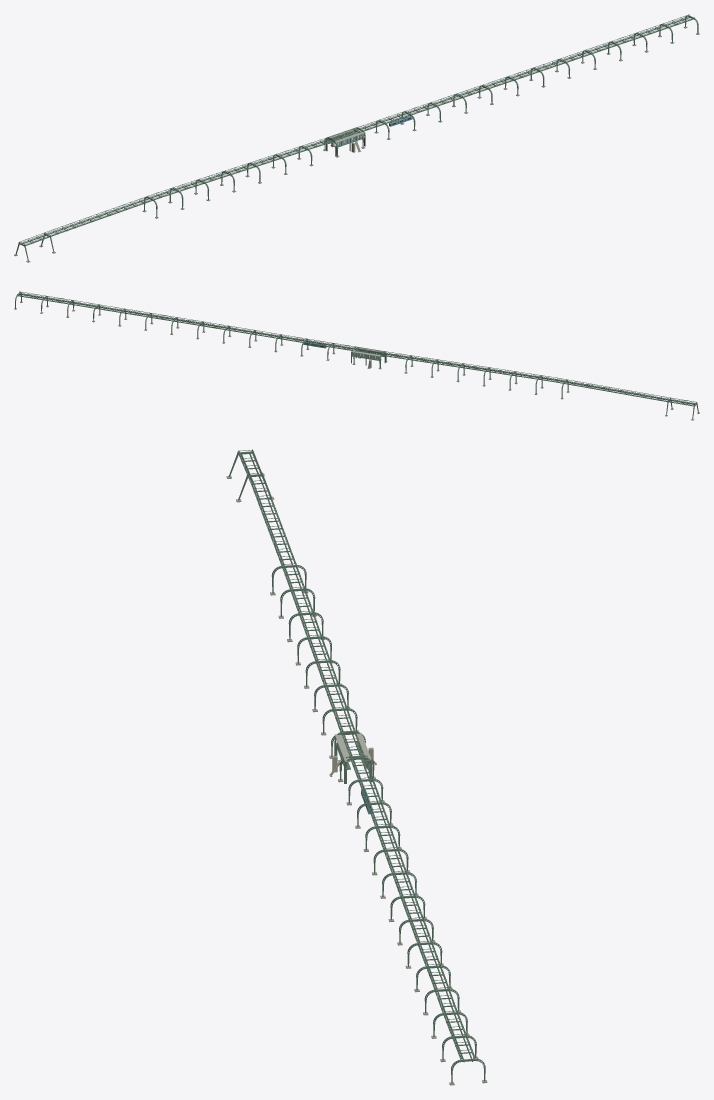
File: wuppertal-schwebebahn-sonnborn-near.glb
The picture shows the model from 3 angles, top to bottom: view 1: azimuth 30°, elevation 25°; view 2: azimuth 150°, elevation 25°; view 3: azimuth 270°, elevation 25°; orthographic projection. The views are drawn at different scales.
Visible parts, largest first — view 1: wuppertal-schwebebahn-sonnborn-0-steel, wuppertal-schwebebahn-sonnborn-0-iron, wuppertal-schwebebahn-sonnborn-0-concrete; view 2: wuppertal-schwebebahn-sonnborn-0-steel, wuppertal-schwebebahn-sonnborn-0-iron, wuppertal-schwebebahn-sonnborn-0-concrete; view 3: wuppertal-schwebebahn-sonnborn-0-steel.
Boxes of the visible parts, bbox=[...] form: wuppertal-schwebebahn-sonnborn-0-steel: bbox=[15, 14, 698, 261]; wuppertal-schwebebahn-sonnborn-0-iron: bbox=[23, 17, 690, 243]; wuppertal-schwebebahn-sonnborn-0-concrete: bbox=[14, 26, 699, 262]; wuppertal-schwebebahn-sonnborn-0-steel: bbox=[15, 291, 698, 419]; wuppertal-schwebebahn-sonnborn-0-iron: bbox=[19, 294, 694, 404]; wuppertal-schwebebahn-sonnborn-0-concrete: bbox=[14, 301, 699, 420]; wuppertal-schwebebahn-sonnborn-0-steel: bbox=[228, 449, 485, 1083].
Size of the model in its own units: 697 by 15.91 by 126.
